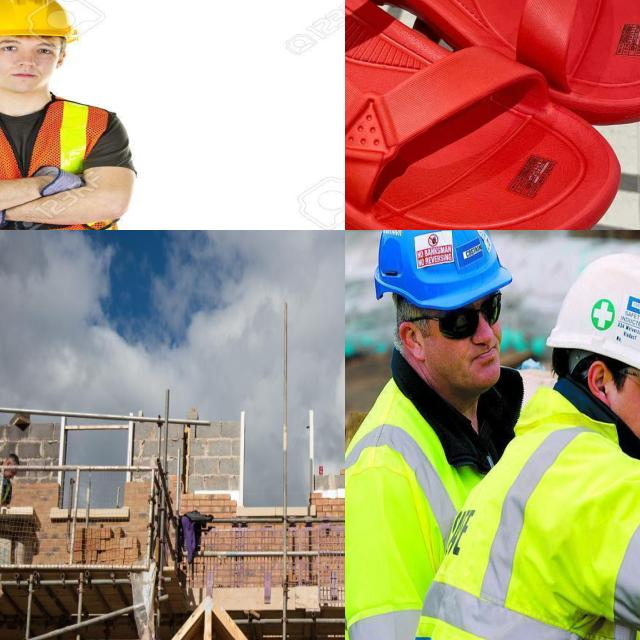No_Ear-Protection: (394, 314, 426, 367), (585, 355, 612, 406)
Sandals: (345, 0, 640, 230)
face_nomask: (443, 297, 502, 395), (609, 352, 640, 477), (0, 34, 57, 88)
glasses: (436, 288, 504, 341)
head_helmet: (543, 248, 640, 388), (372, 230, 513, 287), (0, 0, 82, 42)
head_nohelmet: (8, 438, 22, 476)
person: (438, 262, 640, 640), (345, 230, 519, 640), (0, 0, 186, 230), (0, 443, 19, 509)
vest: (428, 383, 640, 640), (345, 368, 460, 640), (0, 100, 142, 230)
